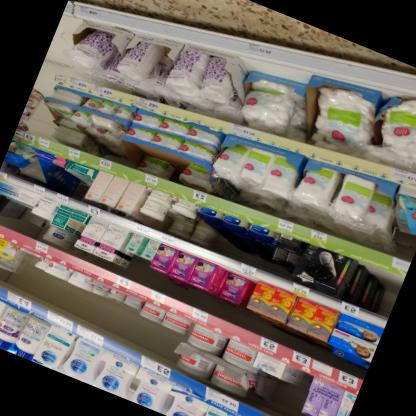empty_space: (33, 15, 75, 93), (343, 261, 395, 315), (0, 246, 41, 296)
